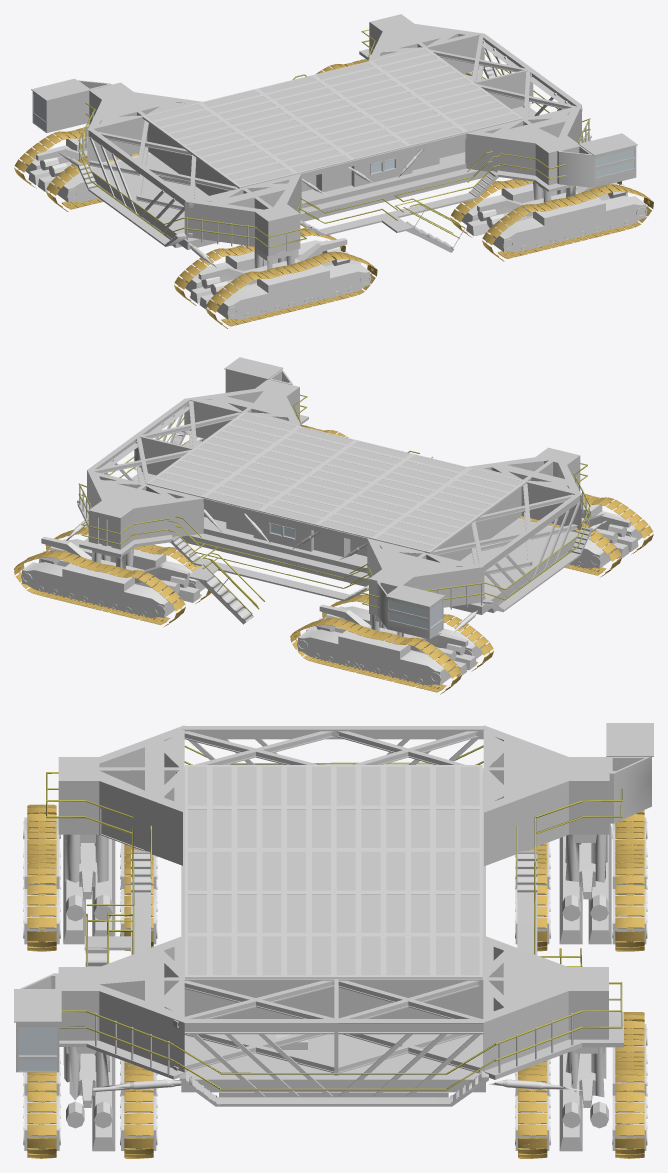
File: crawler.glb
3 renders of one model, top to bottom at view 1: azimuth 30°, elevation 25°; view 2: azimuth 150°, elevation 25°; view 3: azimuth 270°, elevation 25°, orthographic. The views are drawn at different scales.
Visible parts, largest first — view 1: polySurface1; view 2: polySurface1; view 3: polySurface1.
Boxes of the visible parts, x1,y1,x2,y2 form: polySurface1: (14, 14, 653, 328); polySurface1: (14, 357, 653, 694); polySurface1: (14, 723, 653, 1158).
Size of the model in its own units: 8.77 by 1.7 by 7.19.
